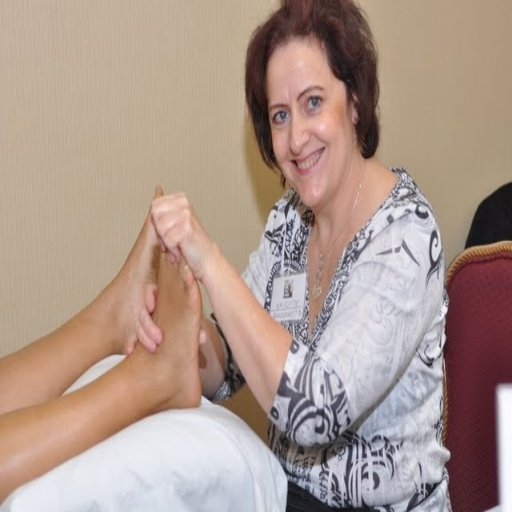hand: (140, 192, 230, 298), (123, 277, 208, 357)
